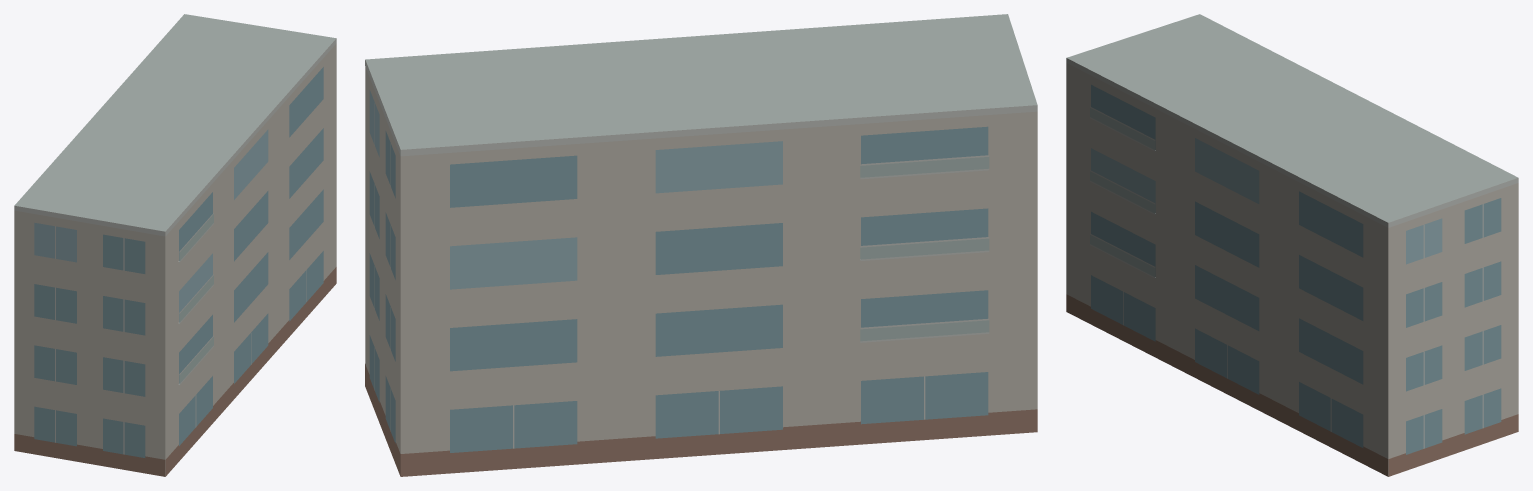
Rendered from survey-upis-32929179.glb.
3 renders of one model, left to right at view 1: azimuth 30°, elevation 25°; view 2: azimuth 150°, elevation 25°; view 3: azimuth 270°, elevation 25°, orthographic. The views are drawn at different scales.
Parts seen in each view (by area): view 1: survey-upis-32929179.tmp; view 2: survey-upis-32929179.tmp; view 3: survey-upis-32929179.tmp.
Part boxes in pixels (x1,y1,x2,y2): survey-upis-32929179.tmp: (14, 14, 336, 476); survey-upis-32929179.tmp: (365, 14, 1037, 476); survey-upis-32929179.tmp: (1066, 14, 1518, 476).
Bounding box in the file's own units: 21.52 × 12.2 × 19.69.
